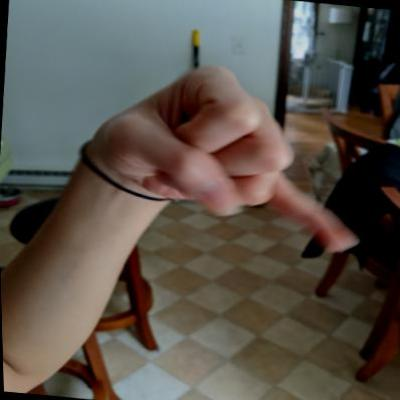hand: (66, 46, 380, 262)
